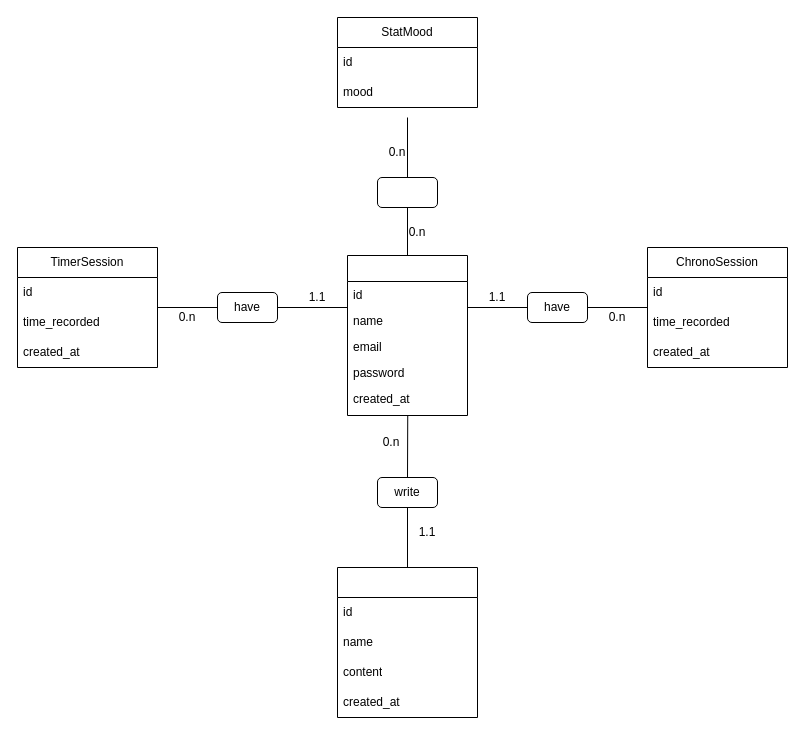
The diagram is 805 pixels wide and 735 high, and some of its shapes have lost their labels. The box of each missing label's shape, as (x1, y1, x2, y2) in pixels:
Article: (336, 566, 478, 718)
select: (376, 176, 438, 208)
User: (346, 254, 468, 416)
